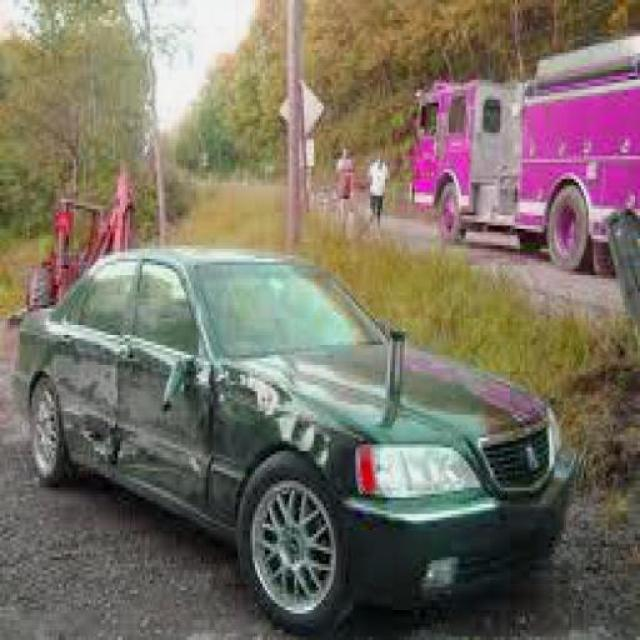Car-Damage: (57, 329, 349, 506)
